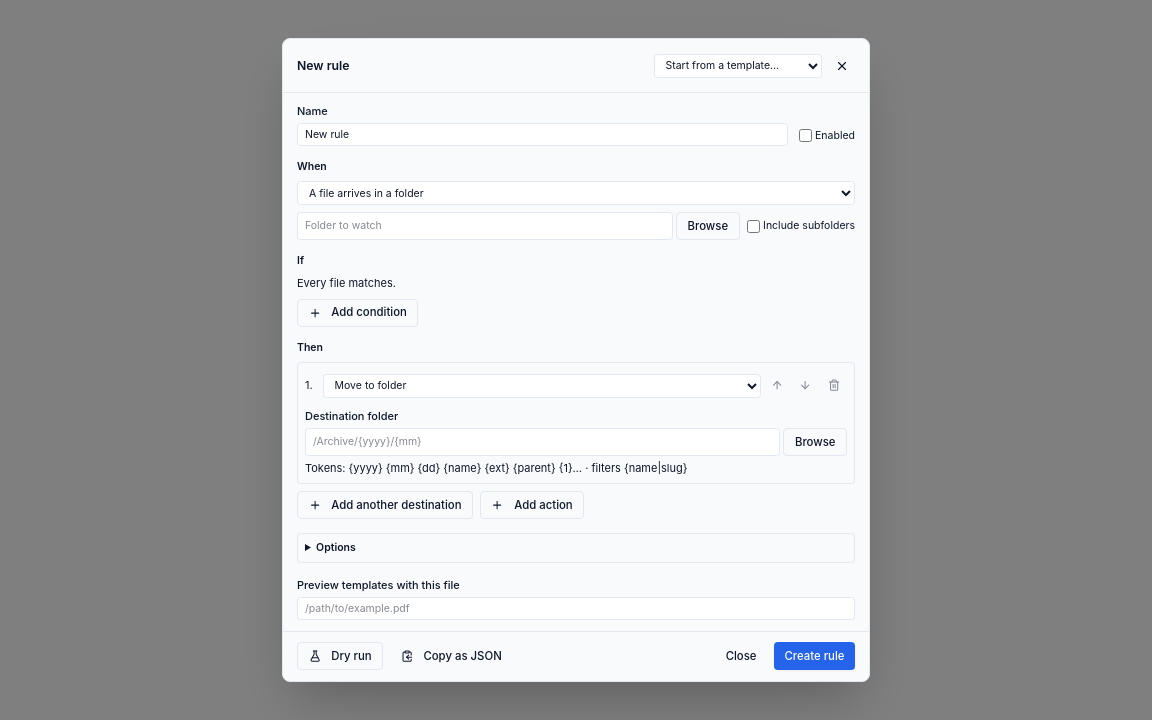
Test: AutomationRuleEditor › creates a rule from a preset in the engine's shape
Select "Unzip arriving archives" in the dropdown named "Start from a template": point(738, 66) [654,54,822,78]
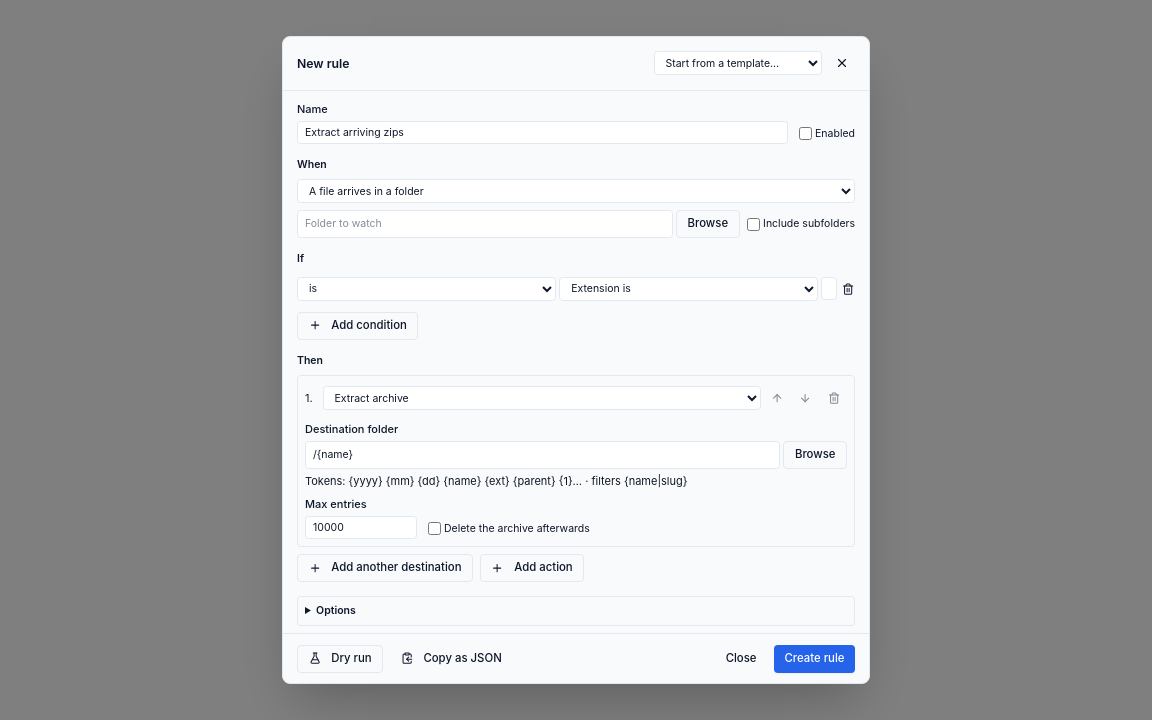
In the field labelled "Folder to watch": point(485, 224) [297,210,672,238], type "/in"
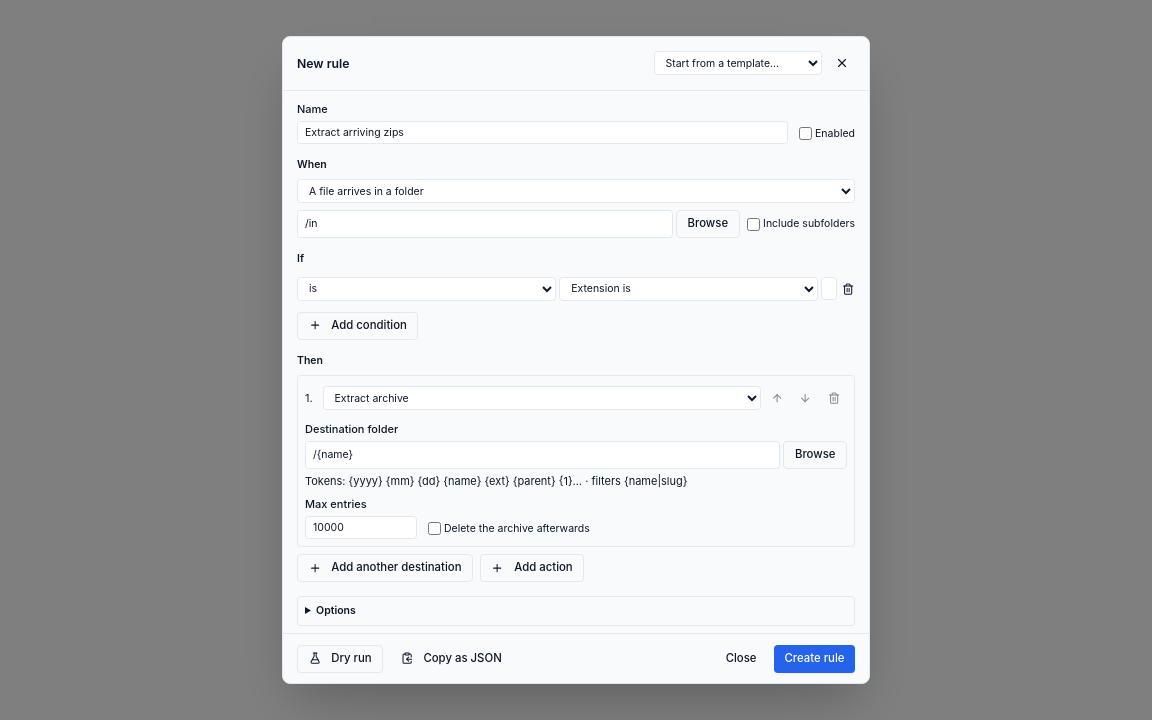
Click the button "Create rule": point(814, 658) [774,644,855,672]
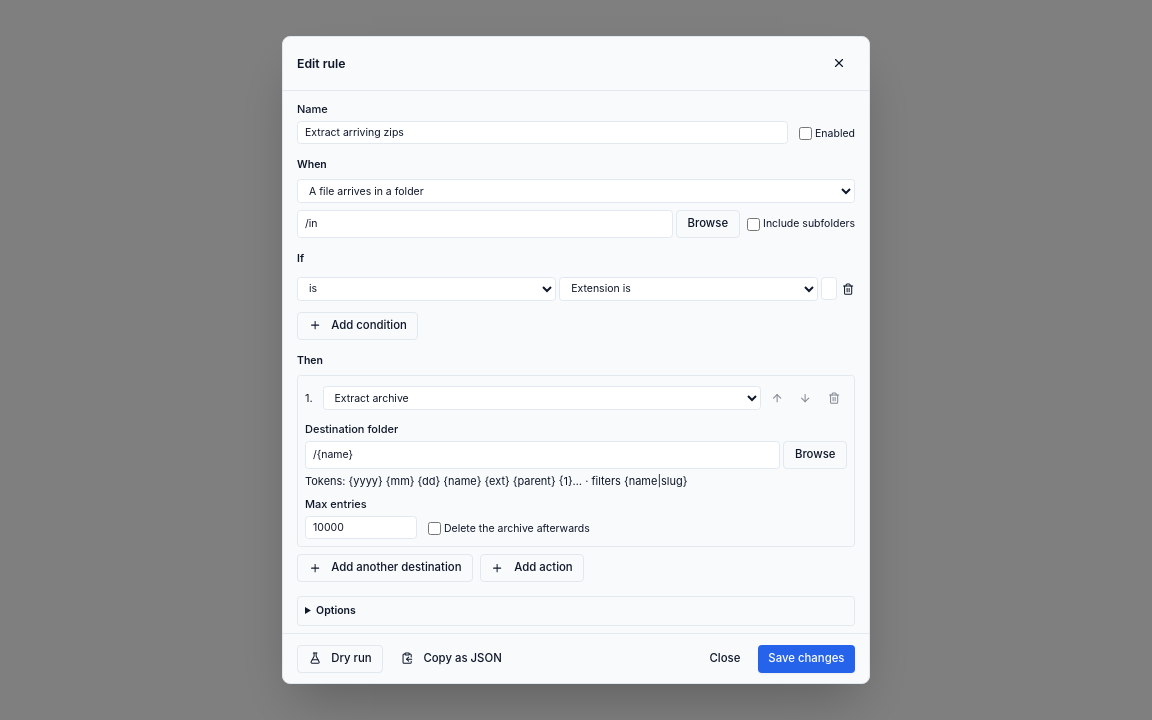
Now the button "Save changes" is shown, box [758,644,855,672]
